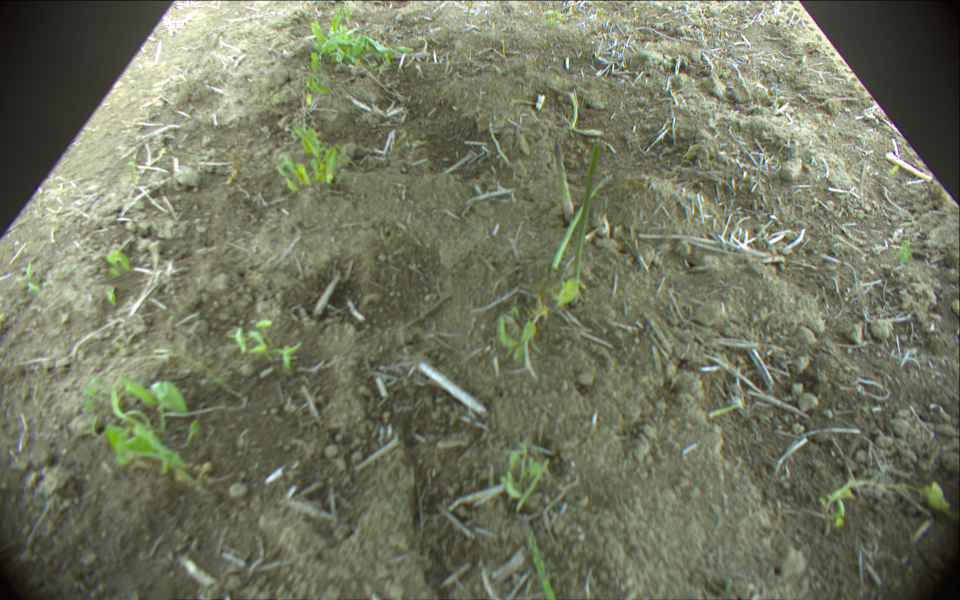aspa: (552, 173, 612, 274), (572, 140, 602, 305), (523, 518, 558, 600), (552, 140, 576, 221)
